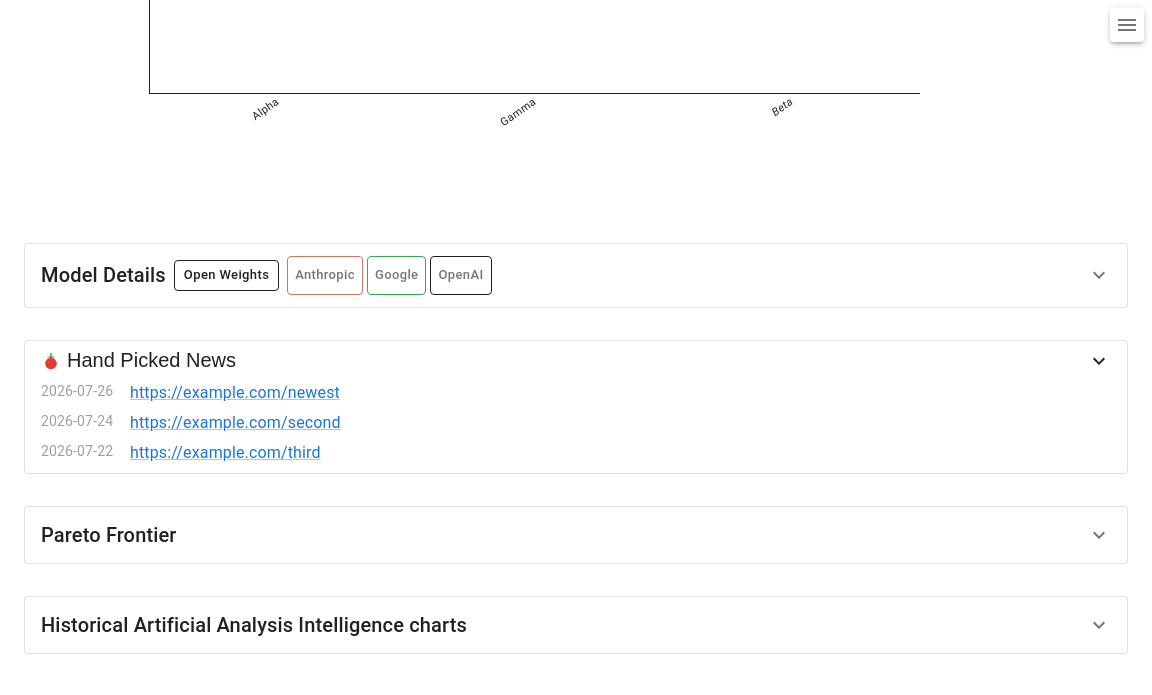
Test: Dashboard › sorts news by date desc by default and toggles to asc when the sort label is clicked
(page scrolled)
Click the button "Hand Picked News" at point(151, 360), box [25,341,1127,381]
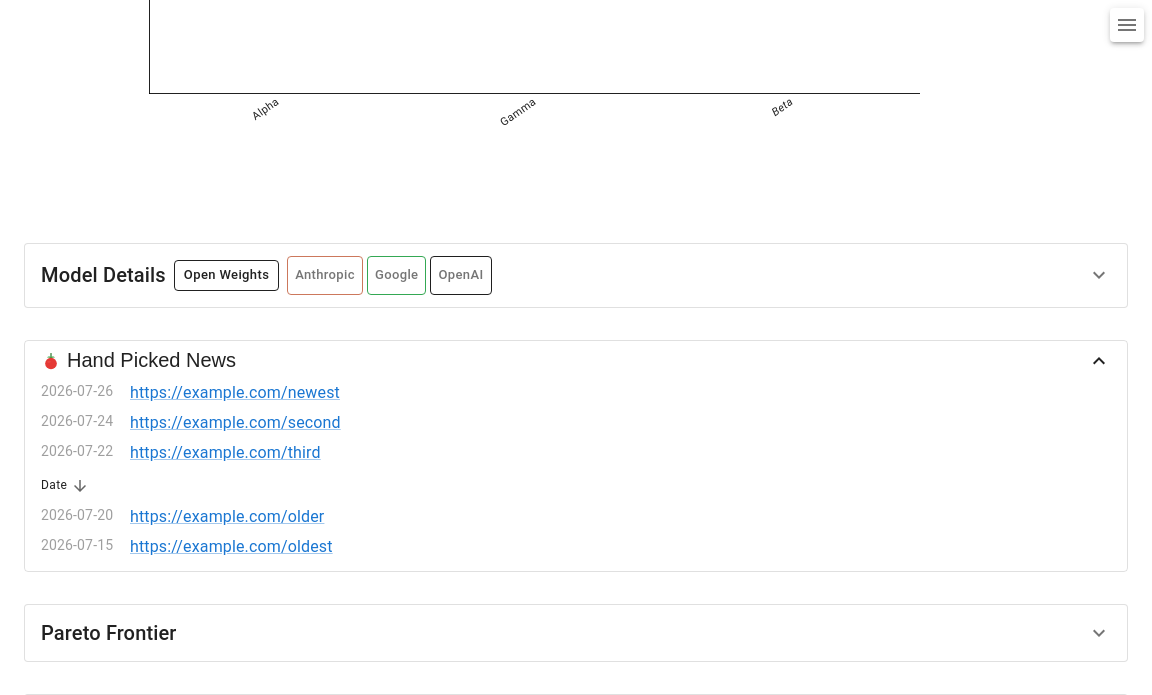
Expected: the list item "2026-07-26 https://example.com/newest" is shown, [41,383,340,402]
Now the list item "2026-07-15 https://example.com/oldest" is shown, box [41,537,333,556]
Click the button with aria-label "sort news by date" at point(67, 486), box [41,476,93,496]
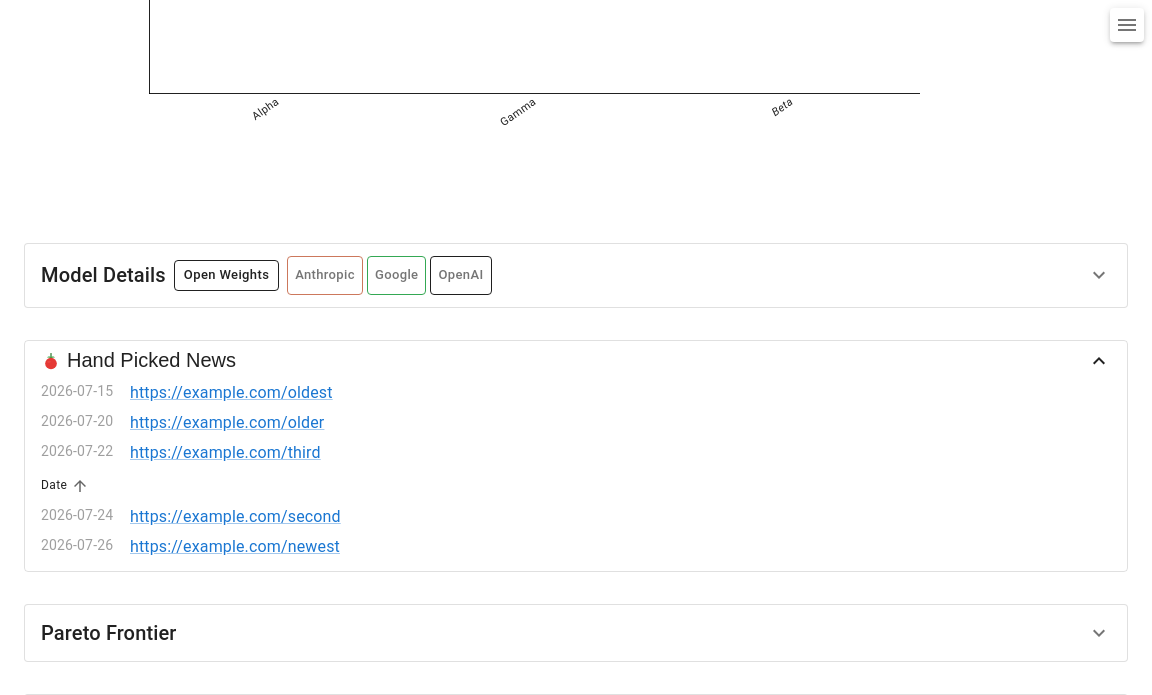
Now the list item "2026-07-15 https://example.com/oldest" is shown, box [41,383,333,402]
Now the list item "2026-07-26 https://example.com/newest" is shown, box [41,537,340,556]
Click the button with aria-label "sort news by date" at point(67, 486), box [41,476,93,496]
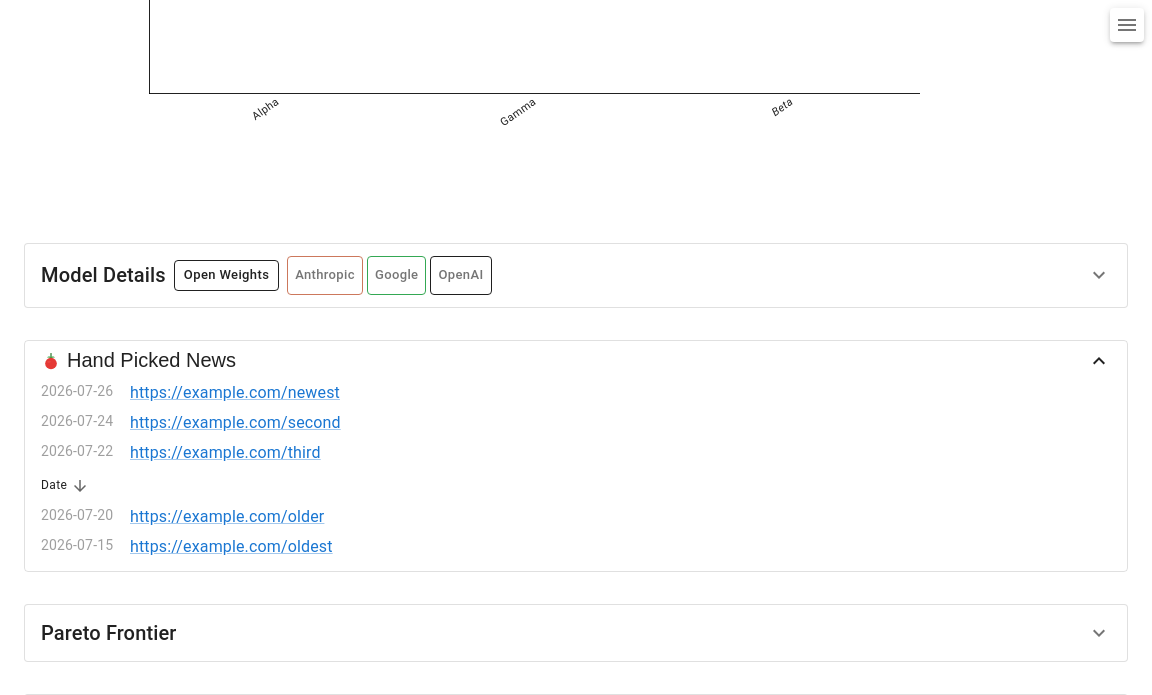
Now the list item "2026-07-26 https://example.com/newest" is shown, box [41,383,340,402]
Now the list item "2026-07-15 https://example.com/oldest" is shown, box [41,537,333,556]
